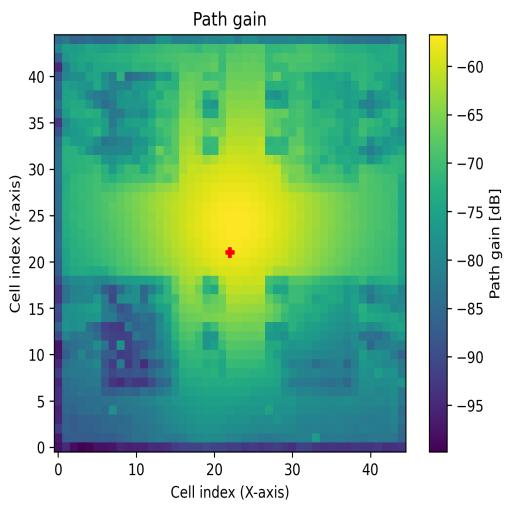Concrete: (282, 72, 360, 192)
Glass: (101, 72, 179, 182)
Metal: (281, 276, 360, 396)
Wood: (102, 276, 180, 398)
